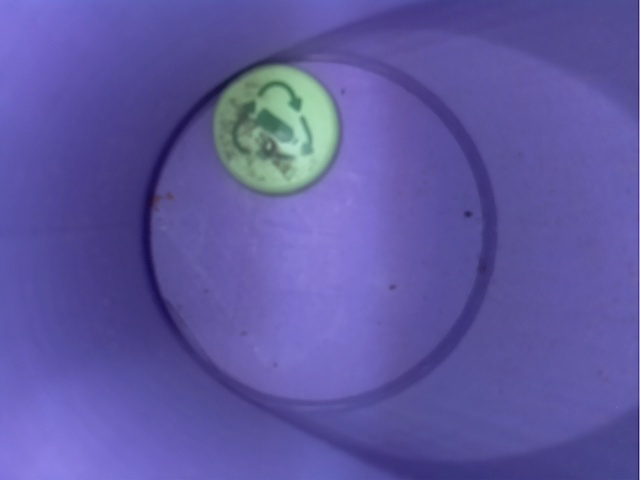bouchon: (194, 57, 357, 205)
